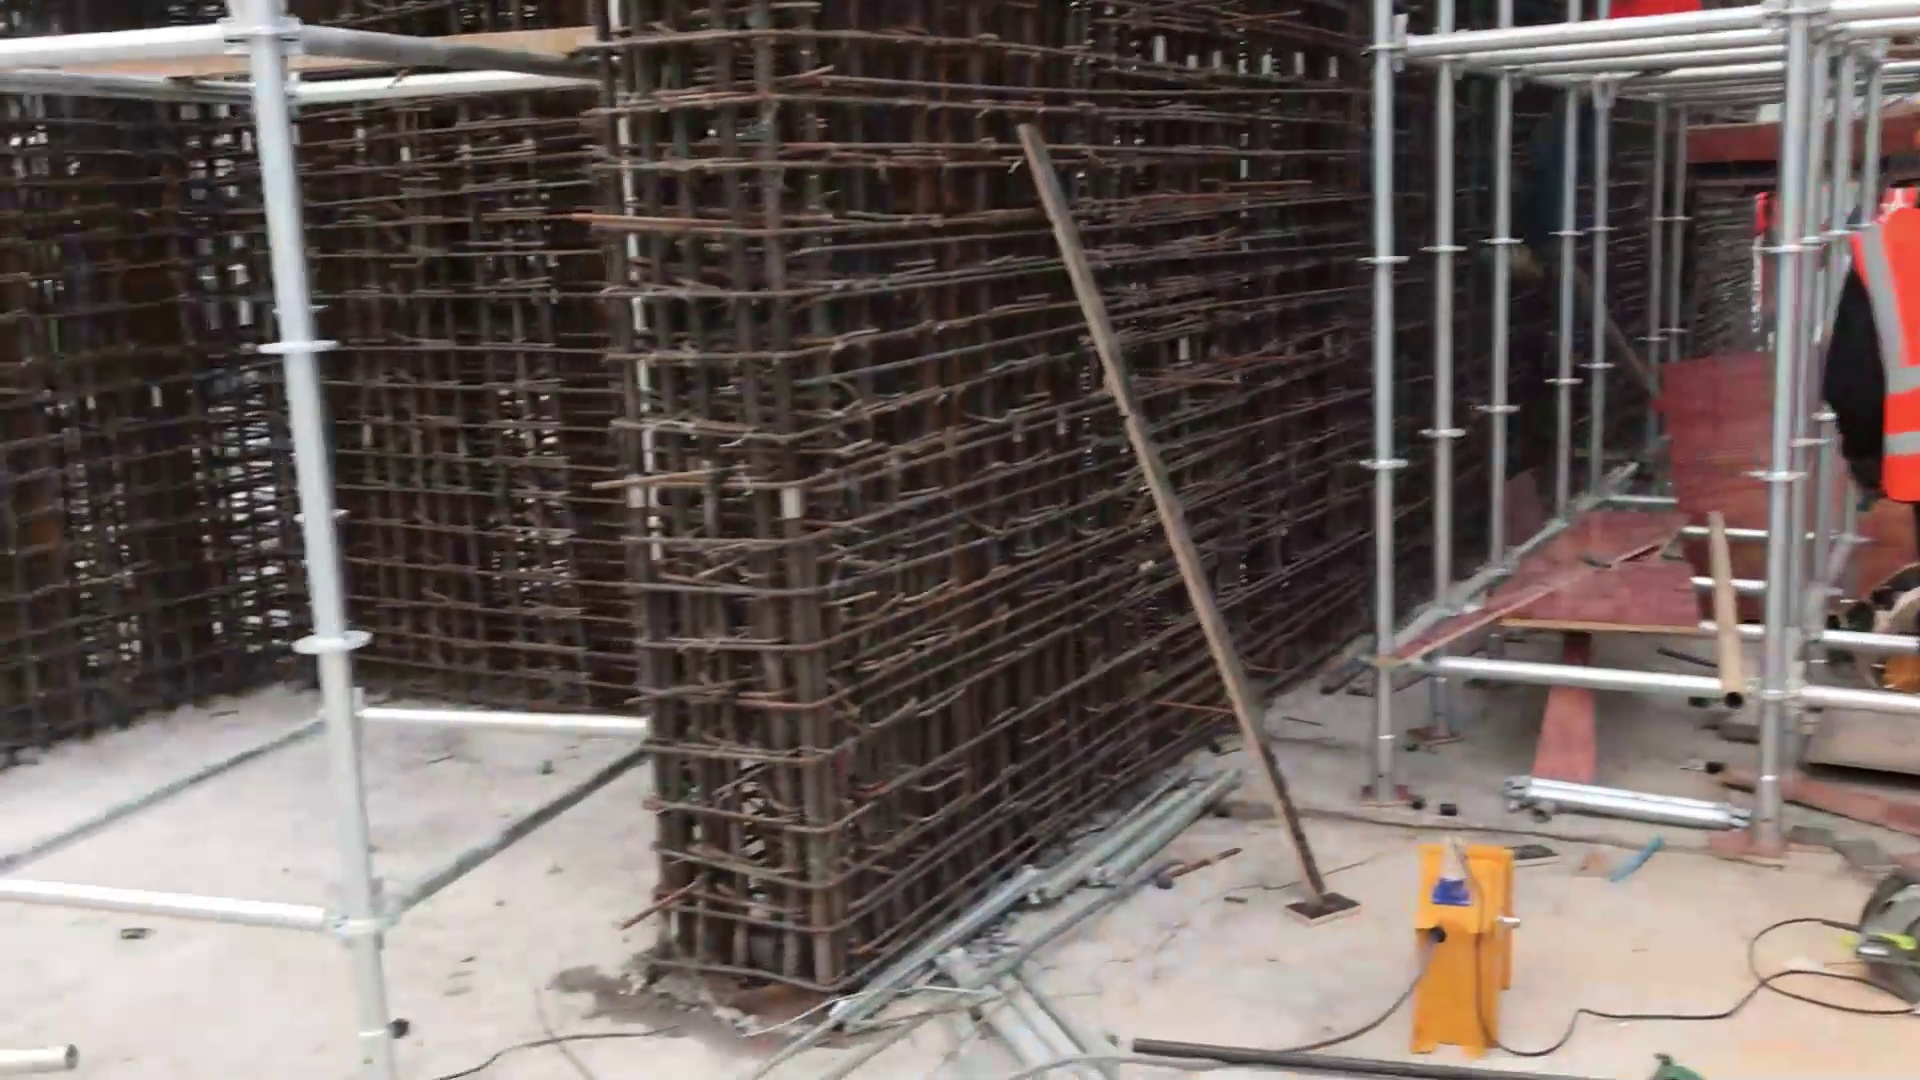ebox: (1403, 841, 1528, 1065)
vest: (1844, 202, 1920, 529)
